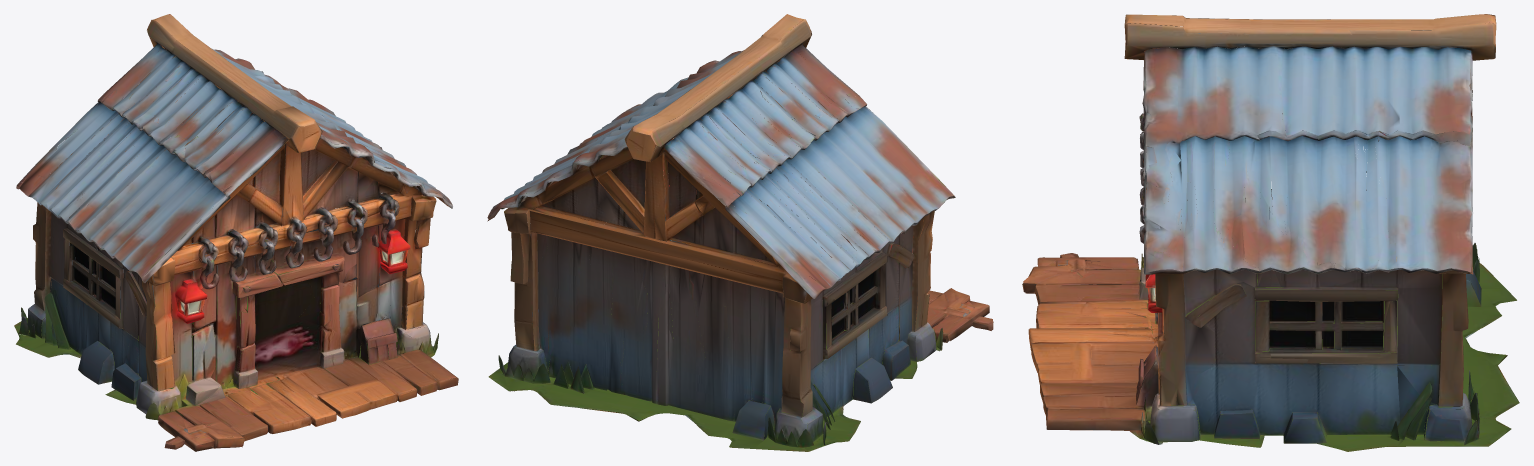
Rendered from shed.glb.
3 renders of one model, left to right at view 1: azimuth 30°, elevation 25°; view 2: azimuth 150°, elevation 25°; view 3: azimuth 270°, elevation 25°, orthographic. The views are drawn at different scales.
Visible parts, largest first — view 1: shed; view 2: shed; view 3: shed.
Boxes of the visible parts, x1=… form: shed: x1=14, y1=14, x2=458, y2=451; shed: x1=487, y1=14, x2=993, y2=451; shed: x1=1022, y1=14, x2=1519, y2=451.
Size of the model in its own units: 0.7868 by 0.6251 by 0.824.
1 material, 1 textured.
